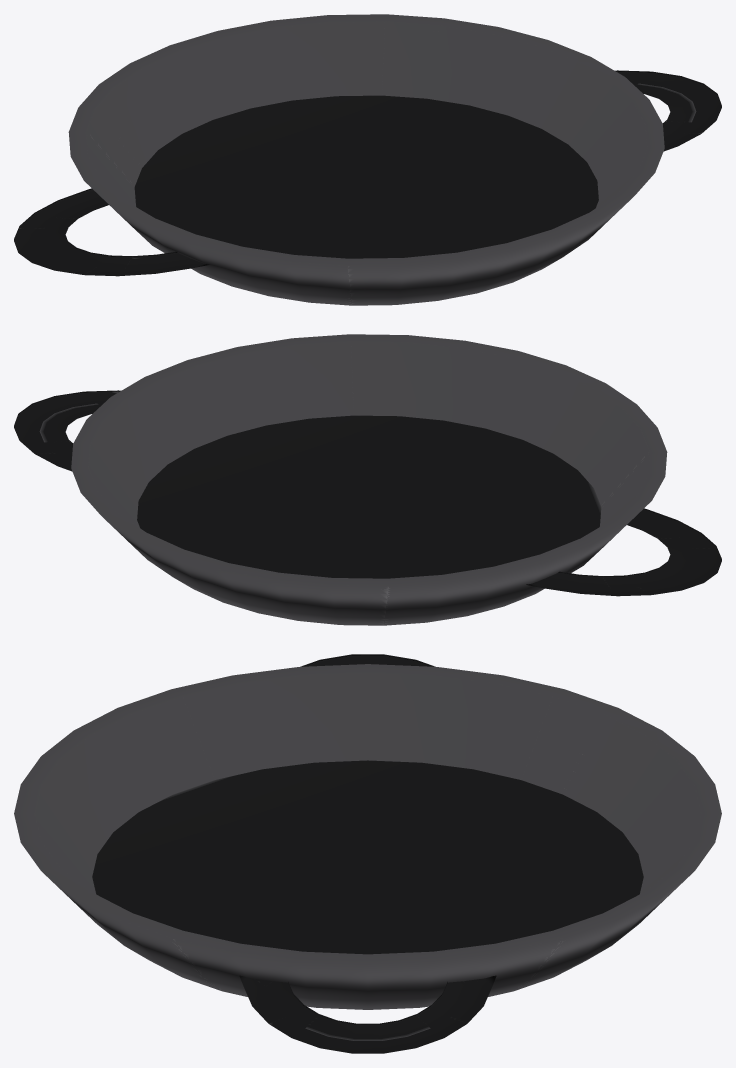
The model's file is paellera.fbx.
3 renders of one model, top to bottom at view 1: azimuth 30°, elevation 25°; view 2: azimuth 150°, elevation 25°; view 3: azimuth 270°, elevation 25°, orthographic. The views are drawn at different scales.
Parts seen in each view (by area): view 1: Cylinder.005; view 2: Cylinder.005; view 3: Cylinder.005.
Part boxes in pixels (bbox=[...]): Cylinder.005: bbox=[14, 14, 721, 305]; Cylinder.005: bbox=[14, 334, 721, 625]; Cylinder.005: bbox=[14, 654, 721, 1053].
Size of the model in its own units: 78.7 by 7.91 by 59.37.
1 material, 1 textured.
